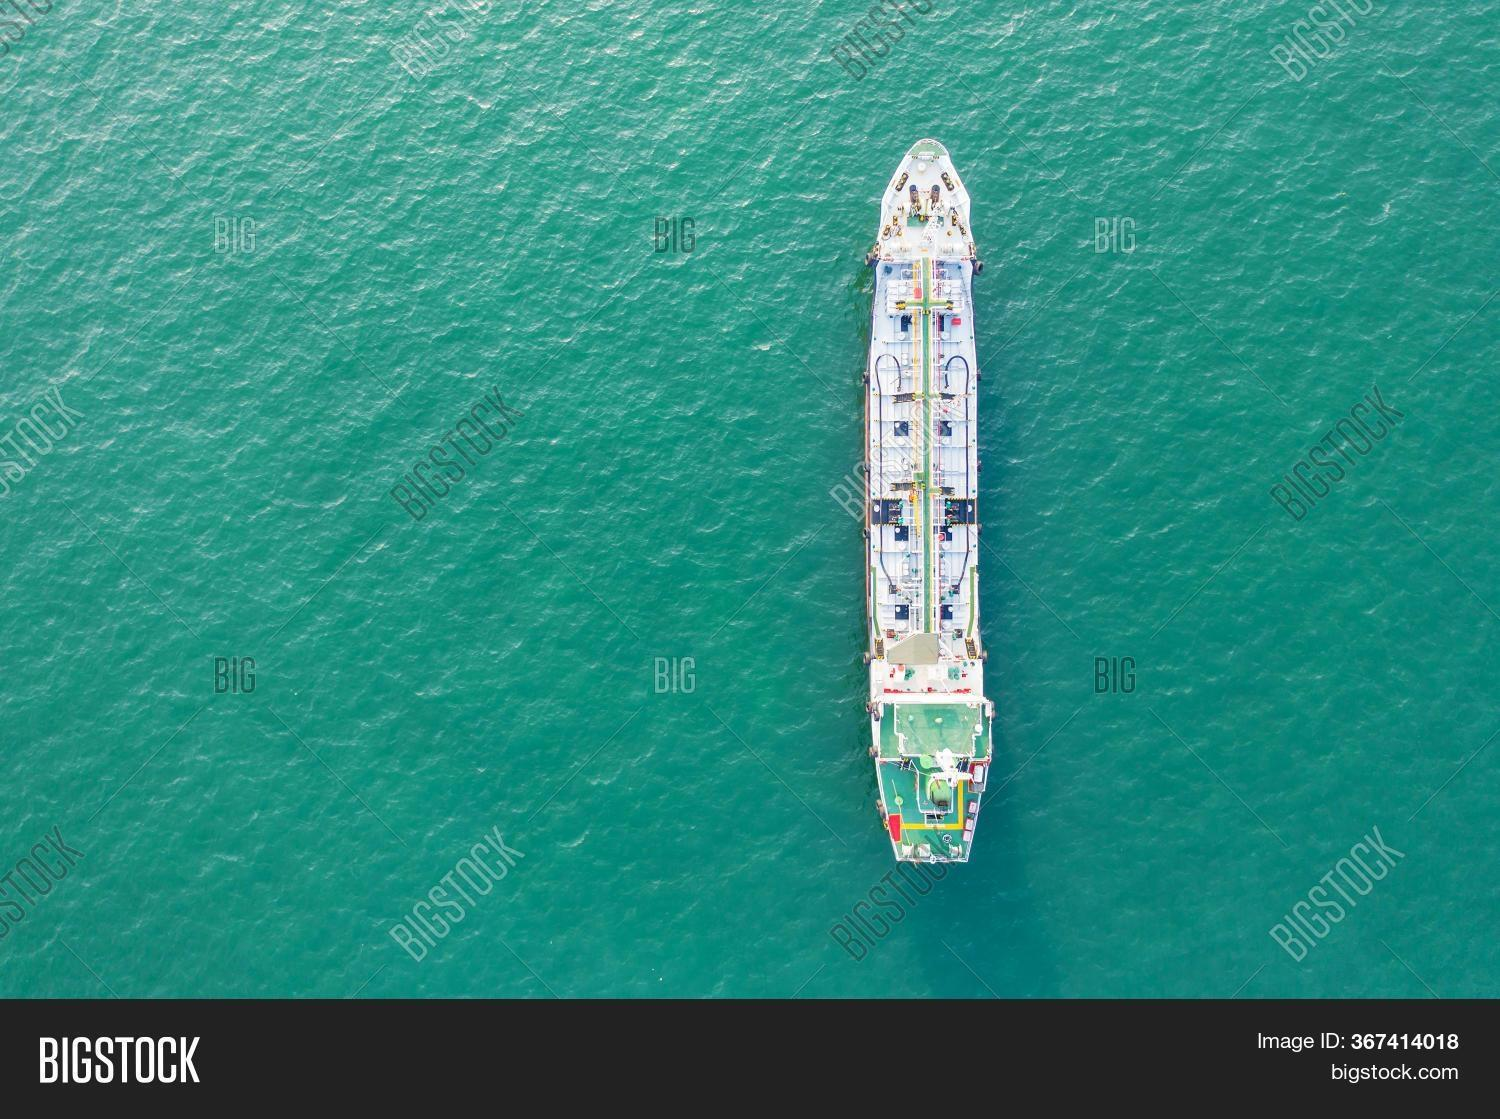Boat: (858, 130, 1004, 873)
